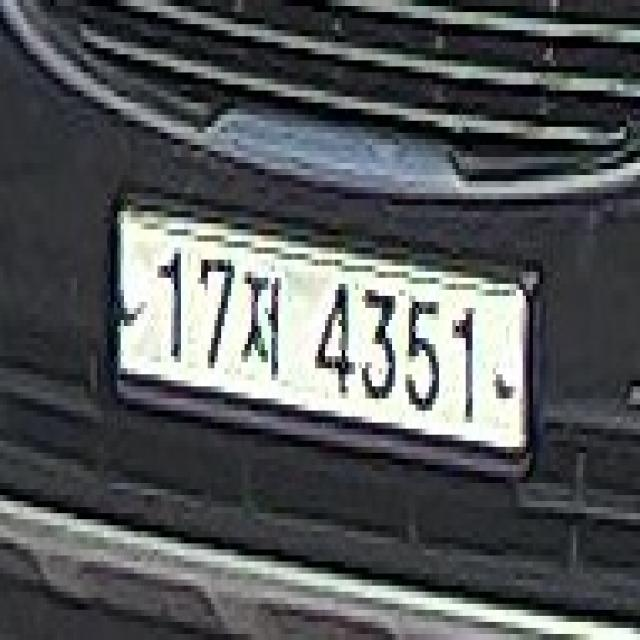1: (154, 236, 194, 380), (446, 296, 482, 435)
3: (355, 272, 399, 416)
4: (312, 272, 355, 411)
5: (402, 284, 449, 428)
7: (191, 235, 238, 392)
jeo: (238, 254, 285, 398)
license_plate: (104, 187, 539, 489)
